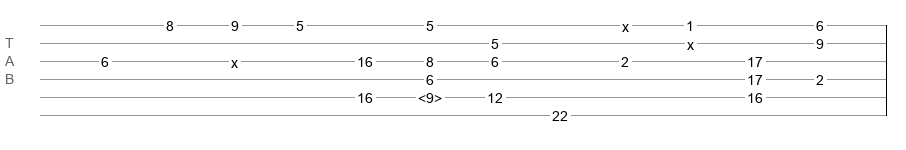1: (686, 18, 694, 28)
12: (487, 90, 503, 100)
16: (357, 54, 373, 64), (357, 90, 373, 100), (747, 90, 763, 100)
17: (747, 72, 763, 82), (747, 54, 763, 64)
2: (621, 54, 629, 64), (816, 72, 824, 82)
22: (552, 108, 568, 118)
5: (296, 18, 304, 28), (426, 18, 434, 28), (491, 36, 499, 46)
6: (101, 54, 109, 64), (426, 72, 434, 82), (491, 54, 499, 64), (816, 18, 824, 28)
8: (166, 18, 174, 28), (426, 54, 434, 64)
9: (231, 18, 239, 28), (816, 36, 824, 46)
harmonic: (418, 90, 442, 100)
x: (231, 55, 238, 63), (622, 19, 629, 27), (687, 37, 694, 45)
